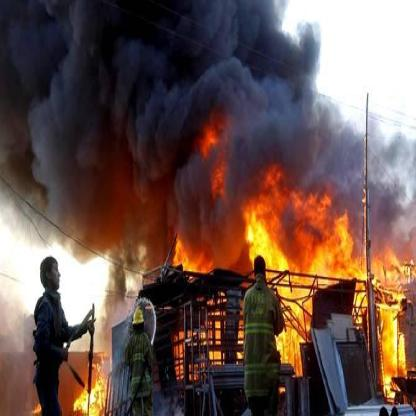fire: (241, 159, 415, 392), (198, 120, 231, 204), (72, 366, 105, 416), (186, 250, 216, 274), (172, 235, 190, 274), (29, 399, 42, 416)
